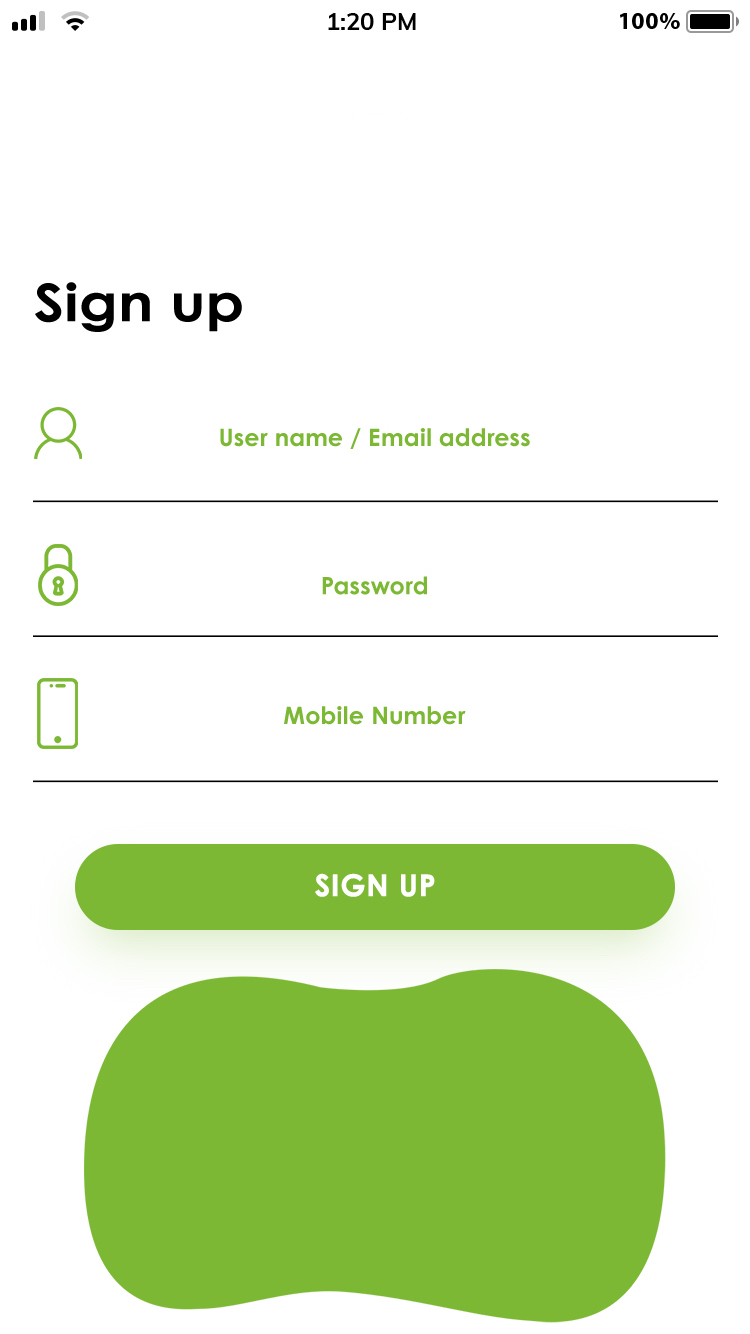EditText: (33, 678, 719, 783), (33, 407, 719, 503), (33, 544, 719, 638)
Icon: (34, 407, 84, 460), (38, 544, 80, 607)
Image: (37, 678, 79, 750)
Text: (35, 281, 244, 334), (221, 427, 531, 450), (284, 706, 466, 725), (322, 577, 428, 596)
TextButton: (75, 844, 676, 931)
UpperTaskBar: (1, 1, 750, 35)
